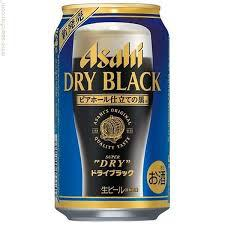beer: (52, 4, 177, 221)
